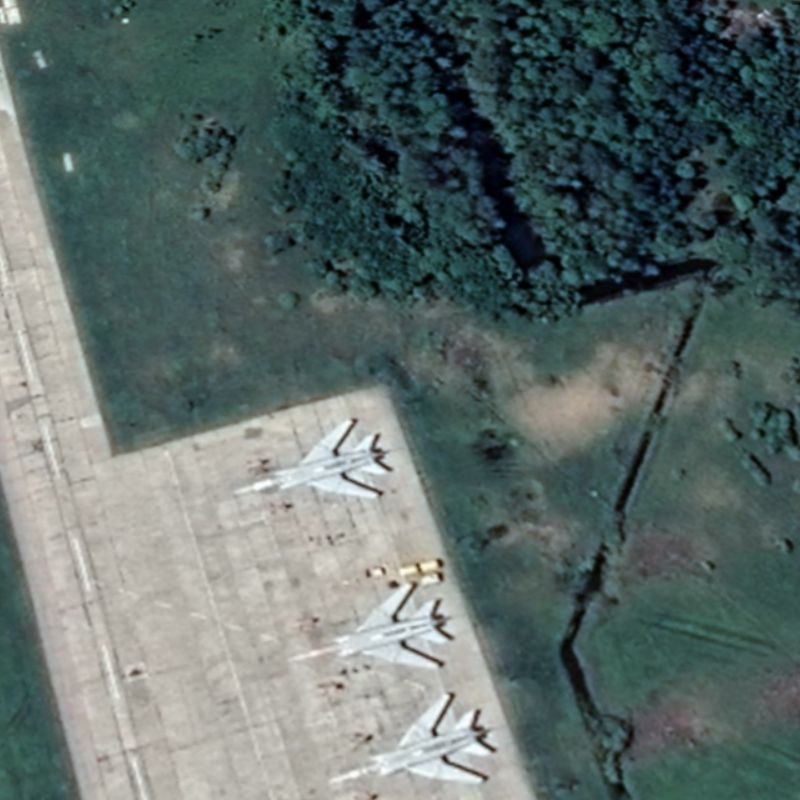A12: (326, 691, 495, 787), (286, 581, 453, 671), (231, 416, 390, 501)
